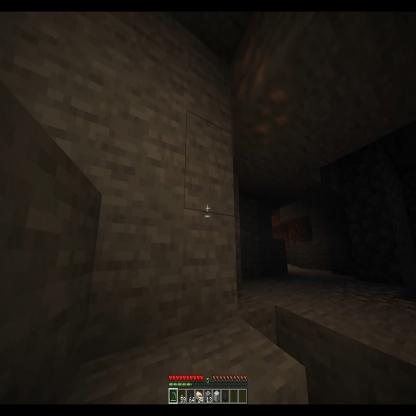iron ore: (230, 31, 303, 156)
